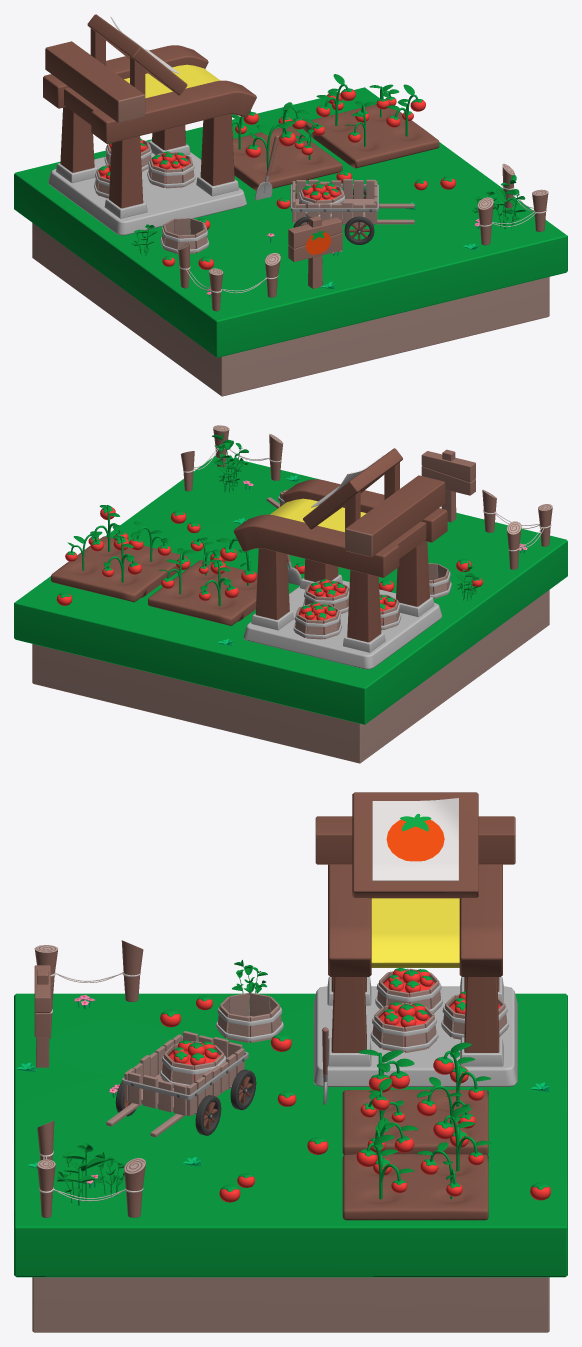
The model's file is Farm_Island_3.glb.
3 views of the same model, one above another, from view 1: azimuth 30°, elevation 25°; view 2: azimuth 150°, elevation 25°; view 3: azimuth 270°, elevation 25° (orthographic). The views are drawn at different scales.
Parts seen in each view (by area): view 1: Farm_3_Base_1, Farm_3_Warehouse_1, Farm_3_Garden_2, Farm_3_Garden_1, Farm_3_Cart_1, Farm_3_Stand_1_Tomato_1, Farm_3_Sighn_Tomato_1, Farm_3_Fence_2, Farm_3_Fence_1, Farm_3_Bucket_with_Tomatos_3, Farm_3_Bucket_1, Farm_3_Bucket_with_Tomatos_4 (+5 smaller); view 2: Farm_3_Base_1, Farm_3_Warehouse_1, Farm_3_Garden_2, Farm_3_Garden_1, Farm_3_Stand_1_Tomato_1, Farm_3_Sighn_Tomato_1, Farm_3_Fence_2, Farm_3_Bucket_with_Tomatos_2, Farm_3_Fence_1, Farm_3_Bucket_with_Tomatos_3, Farm_3_Tomato_Bush_2, Farm_3_Tomato_Bush_6 (+9 smaller); view 3: Farm_3_Base_1, Farm_3_Warehouse_1, Farm_3_Stand_1_Tomato_1, Farm_3_Garden_2, Farm_3_Cart_1, Farm_3_Garden_1, Farm_3_Bucket_with_Tomatos_3, Farm_3_Bucket_1, Farm_3_Fence_1, Farm_3_Bucket_with_Tomatos_1, Farm_3_Bucket_with_Tomatos_4, Farm_3_Fence_2 (+11 smaller).
Part boxes in pixels (x1,y1,x2,y2): Farm_3_Base_1: [14, 87, 567, 396]; Farm_3_Warehouse_1: [43, 41, 256, 235]; Farm_3_Garden_2: [302, 104, 439, 168]; Farm_3_Garden_1: [233, 126, 342, 190]; Farm_3_Cart_1: [290, 179, 414, 244]; Farm_3_Stand_1_Tomato_1: [87, 14, 187, 95]; Farm_3_Sighn_Tomato_1: [288, 216, 342, 288]; Farm_3_Fence_2: [178, 242, 280, 311]; Farm_3_Fence_1: [477, 163, 548, 245]; Farm_3_Bucket_with_Tomatos_3: [147, 151, 195, 188]; Farm_3_Bucket_1: [160, 218, 208, 253]; Farm_3_Bucket_with_Tomatos_4: [298, 182, 345, 218]; Farm_3_Base_1: [14, 455, 567, 763]; Farm_3_Warehouse_1: [233, 475, 447, 669]; Farm_3_Garden_2: [51, 536, 187, 602]; Farm_3_Garden_1: [148, 560, 257, 625]; Farm_3_Stand_1_Tomato_1: [303, 448, 402, 529]; Farm_3_Sighn_Tomato_1: [421, 449, 475, 522]; Farm_3_Fence_2: [482, 489, 552, 569]; Farm_3_Bucket_with_Tomatos_2: [293, 602, 341, 639]; Farm_3_Fence_1: [180, 425, 283, 491]; Farm_3_Bucket_with_Tomatos_3: [303, 579, 349, 613]; Farm_3_Tomato_Bush_2: [199, 559, 238, 606]; Farm_3_Tomato_Bush_6: [102, 535, 141, 582]; Farm_3_Base_1: [14, 993, 567, 1332]; Farm_3_Warehouse_1: [313, 816, 517, 1086]; Farm_3_Stand_1_Tomato_1: [352, 792, 478, 898]; Farm_3_Garden_2: [342, 1154, 488, 1220]; Farm_3_Cart_1: [106, 1031, 256, 1137]; Farm_3_Garden_1: [342, 1089, 488, 1154]; Farm_3_Bucket_with_Tomatos_3: [370, 1002, 438, 1052]; Farm_3_Bucket_1: [215, 993, 283, 1042]; Farm_3_Fence_1: [37, 1120, 145, 1217]; Farm_3_Bucket_with_Tomatos_1: [375, 968, 442, 1013]; Farm_3_Bucket_with_Tomatos_4: [160, 1040, 226, 1087]; Farm_3_Fence_2: [34, 940, 143, 1038].
Bounding box in the file's own units: 11.2 × 7.75 × 11.2.
42 materials, 42 textured.
